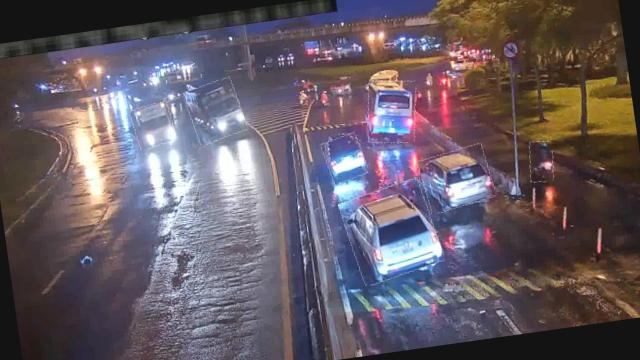Bike: (526, 139, 555, 183)
Bus: (362, 77, 421, 146)
Car: (340, 178, 442, 284), (417, 144, 495, 214), (321, 132, 367, 183)
Truck: (184, 78, 247, 144), (129, 100, 176, 148)
